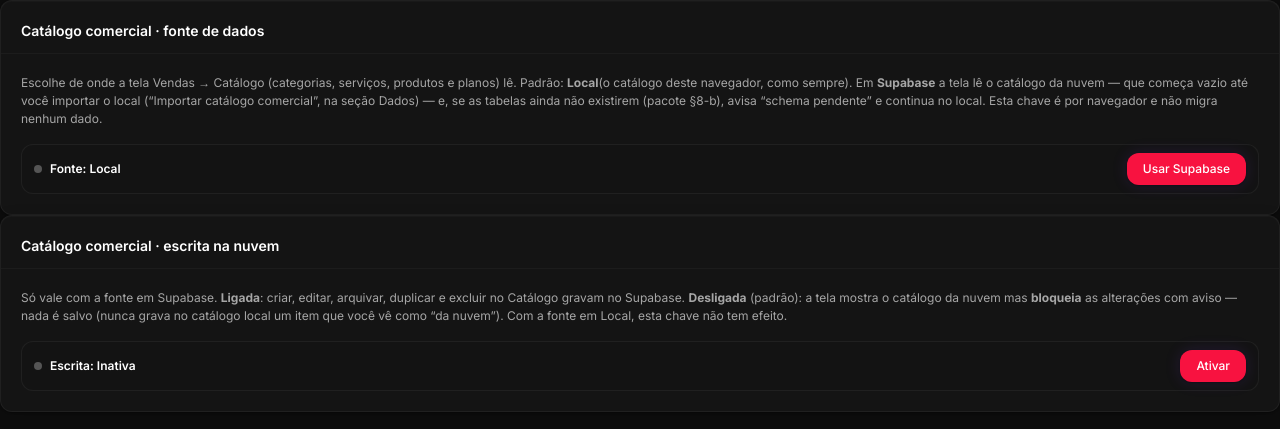
CatalogSupabaseWriteToggleCard › os dois cards se sincronizam pelo evento (mesma aba)
Check: the text "Com a fonte em Local, esta chave não tem efeito" is shown, box left=504, top=308, right=787, bottom=323
Click the button "Usar Supabase".
click(1186, 169)  # box left=1127, top=153, right=1246, bottom=185
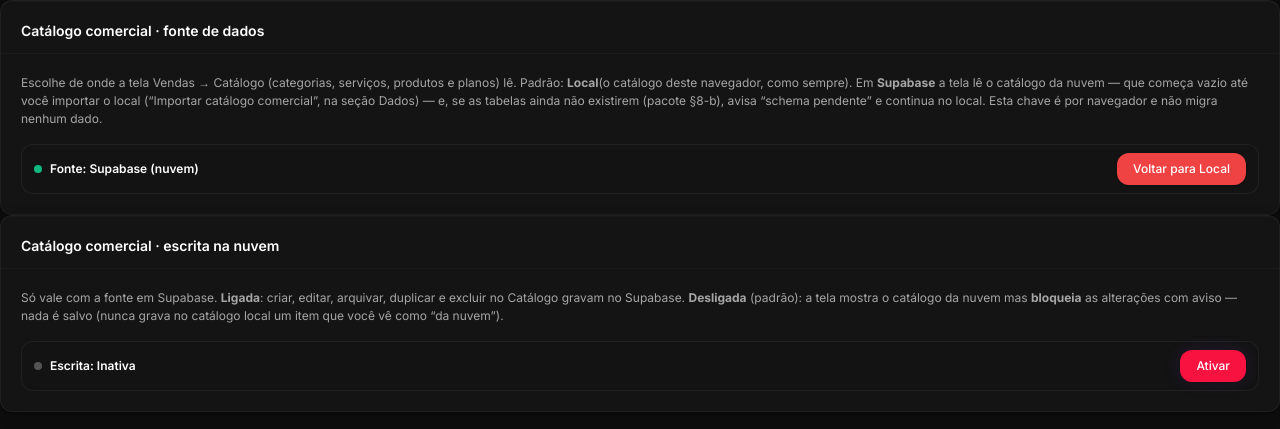
Check: the text "Com a fonte em Local, esta chave não tem efeito" is gone
